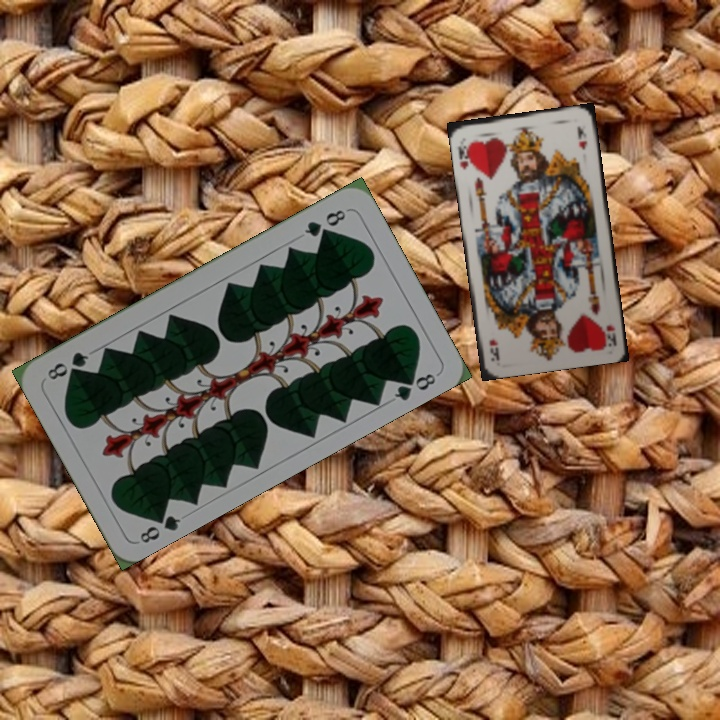G8: (135, 506, 184, 546), (300, 205, 349, 240)
HK: (454, 138, 476, 173), (600, 321, 619, 347)
